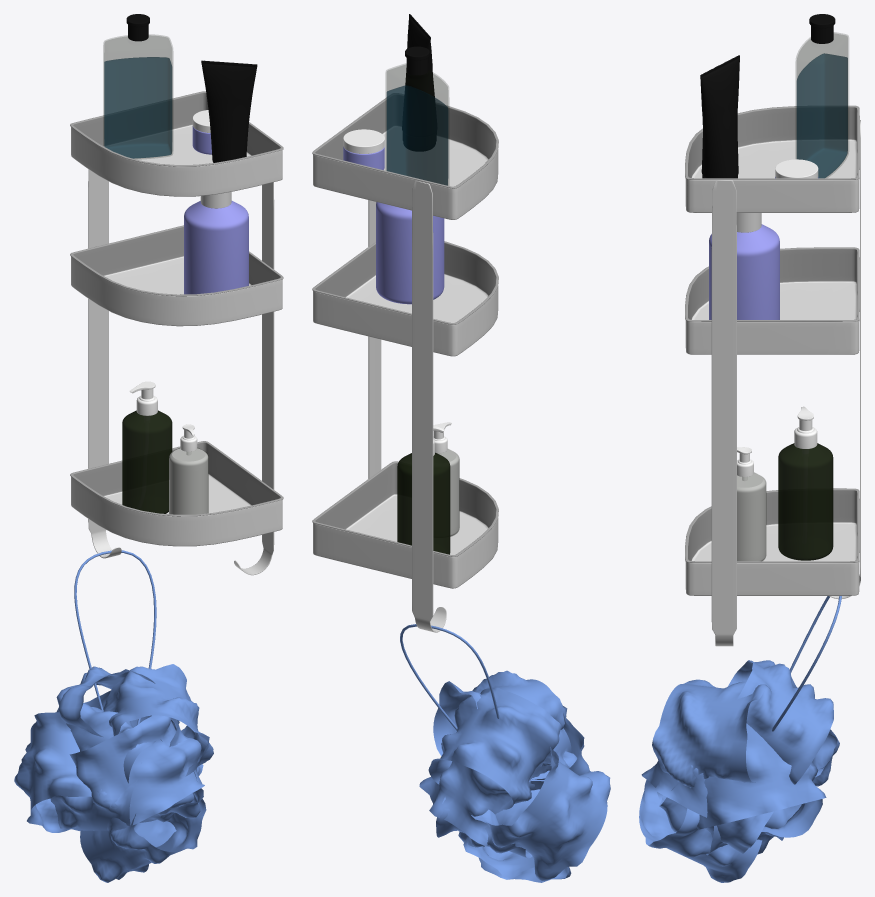
Rendered from doccia_ripiano.fbx.
3 views of the same model, side by side, from view 1: azimuth 30°, elevation 25°; view 2: azimuth 150°, elevation 25°; view 3: azimuth 270°, elevation 25° (orthographic). The views are drawn at different scales.
Visible parts, largest first — view 1: sponge, bottle.006, Cube.018, liquid, Cube.017, corner_shelf, Cube.020, Cube.019, bottle.004, Plane.009, bottle.005, Cube.016 (+6 smaller); view 2: sponge, Plane.009, Cube.018, bottle.006, Cube.016, Cube.019, liquid, corner_shelf, Cube.020, Cube.017, bottle.004, bottle.005 (+6 smaller); view 3: sponge, Plane.010, Cube.018, Cube.019, bottle.005, bottle.006, liquid, corner_shelf, Cube.020, Cube.017, Cube.016, bottle.004 (+6 smaller).
Part boxes in pixels (x1,y1,x2,y2): sponge: [14, 664, 213, 882]; bottle.006: [103, 35, 172, 158]; Cube.018: [70, 91, 283, 166]; liquid: [104, 57, 172, 158]; Cube.017: [71, 477, 282, 546]; corner_shelf: [71, 127, 282, 196]; Cube.020: [71, 256, 282, 326]; Cube.019: [70, 225, 283, 296]; bottle.004: [184, 192, 248, 294]; Plane.009: [88, 169, 121, 558]; bottle.005: [122, 381, 172, 513]; Cube.016: [70, 441, 283, 516]; sponge: [419, 670, 610, 882]; Plane.009: [412, 181, 446, 632]; Cube.018: [312, 93, 498, 188]; bottle.006: [386, 64, 448, 185]; Cube.016: [312, 461, 498, 556]; Cube.019: [312, 241, 498, 324]; liquid: [386, 85, 448, 185]; corner_shelf: [313, 150, 498, 219]; Cube.020: [313, 286, 498, 356]; Cube.017: [313, 518, 498, 588]; bottle.004: [376, 202, 444, 304]; bottle.005: [397, 425, 450, 554]; sponge: [639, 660, 839, 882]; Plane.010: [711, 180, 736, 646]; Cube.018: [685, 105, 859, 179]; Cube.019: [685, 247, 859, 321]; bottle.005: [778, 406, 833, 560]; bottle.006: [796, 32, 848, 177]; liquid: [796, 53, 847, 178]; corner_shelf: [685, 177, 859, 212]; Cube.020: [685, 319, 859, 354]; Cube.017: [685, 560, 859, 595]; Cube.016: [685, 488, 859, 562]; bottle.004: [709, 213, 779, 319].
Size of the model in its own units: 31.18 by 107 by 24.23.
